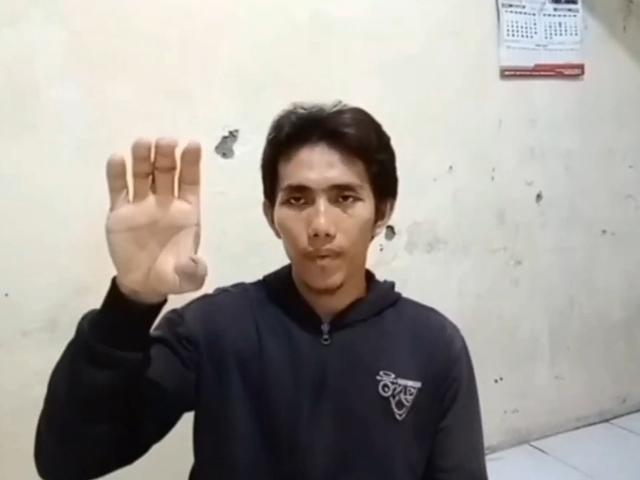E: (102, 134, 210, 298)
